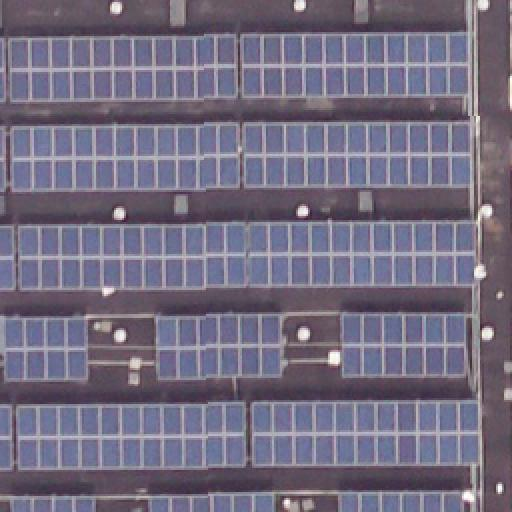solar-panel: (247, 220, 481, 288), (19, 222, 245, 290), (17, 403, 247, 469), (9, 127, 239, 193), (252, 399, 480, 465), (11, 35, 237, 101), (241, 124, 471, 188), (241, 34, 471, 98), (154, 314, 282, 378), (340, 312, 468, 376), (2, 316, 86, 380), (337, 489, 463, 511), (152, 492, 272, 512), (10, 497, 94, 511), (1, 405, 15, 467), (1, 229, 15, 291), (1, 128, 7, 192), (0, 40, 4, 104)
